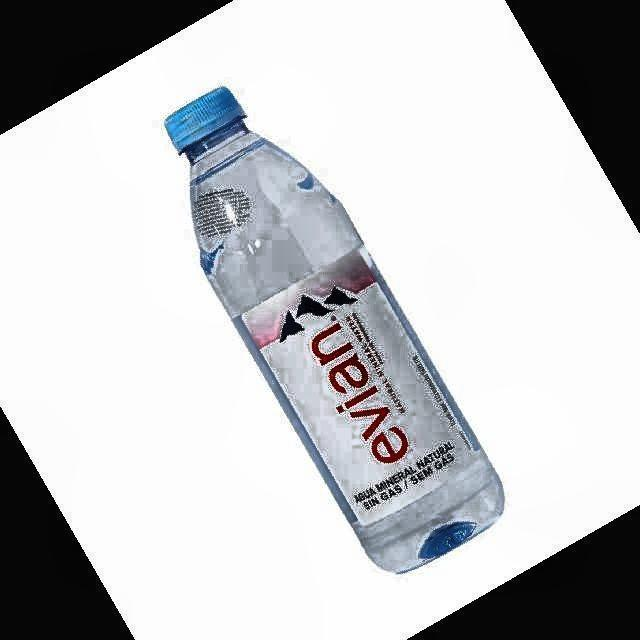plastic: (166, 89, 504, 572)
